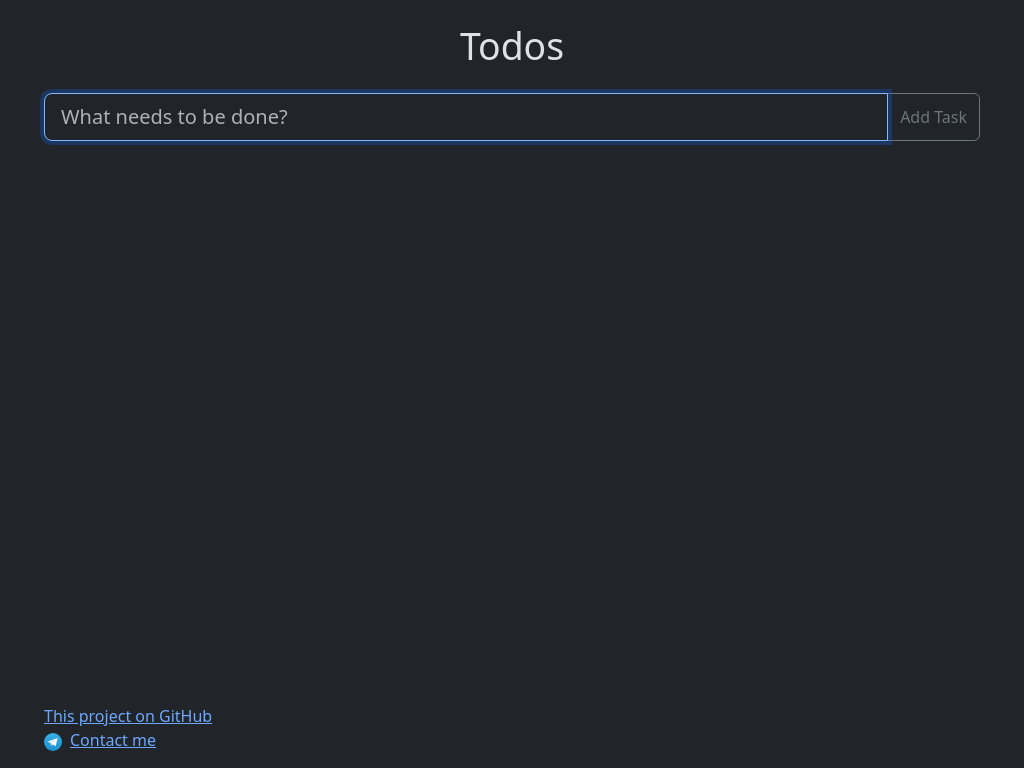
Test: Todo App › adds a new todo
The image size is (1024, 768).
Type "New Todo" into the field with placeholder "What needs to be done?" at (466, 117), box [44,93,888,141]
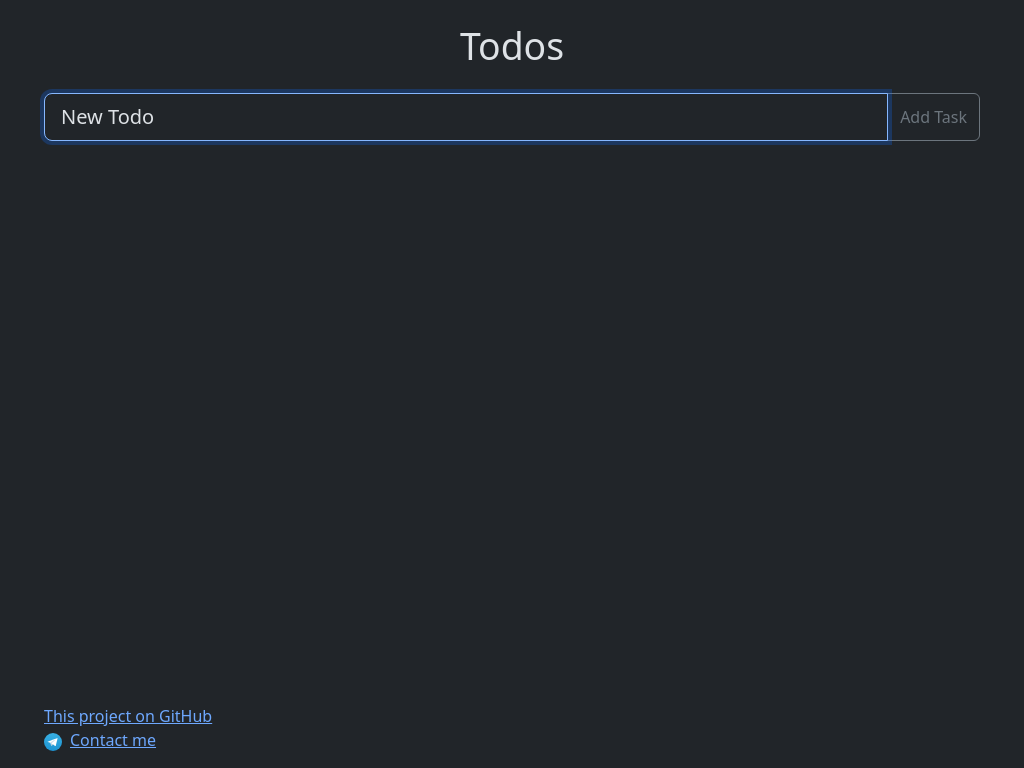
Click the button "Add Task" at (934, 117), box [887,93,980,141]
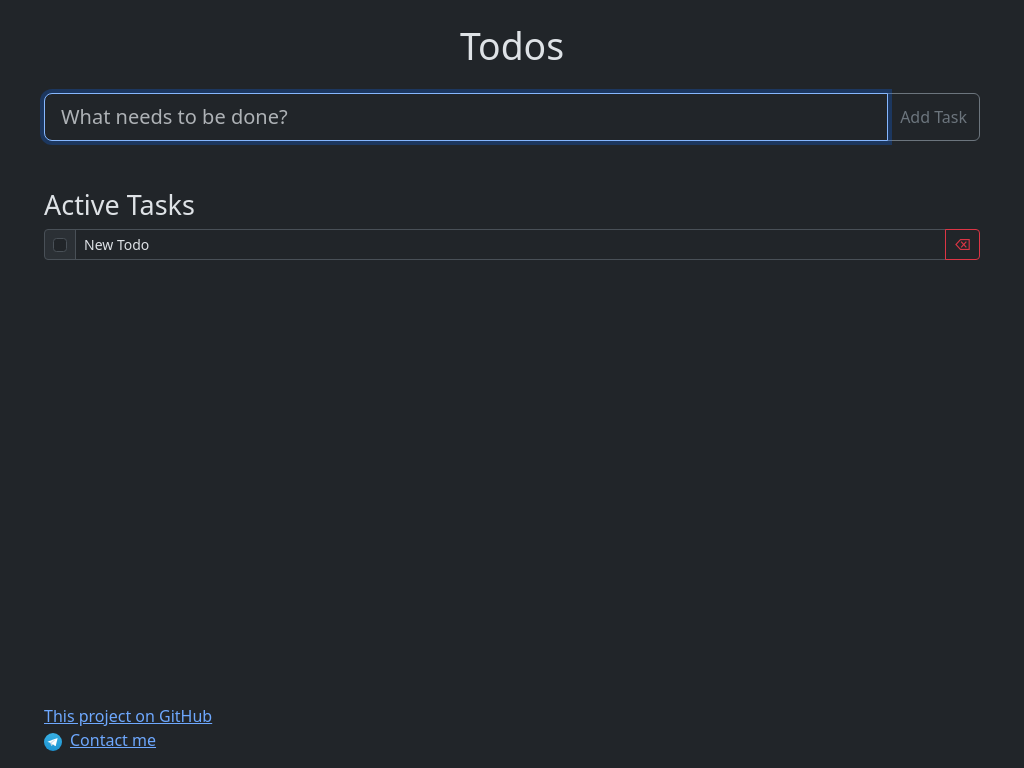
Expected: the field showing "New Todo" is shown, [75,229,946,260]
